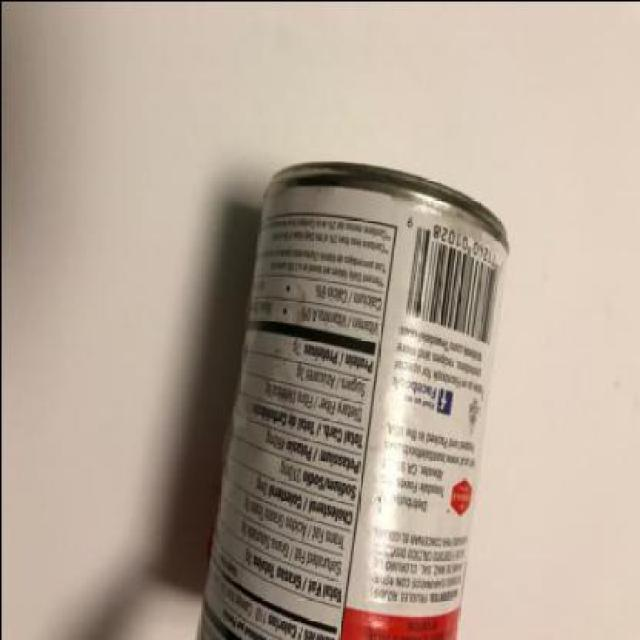METAL: (191, 162, 509, 638)
